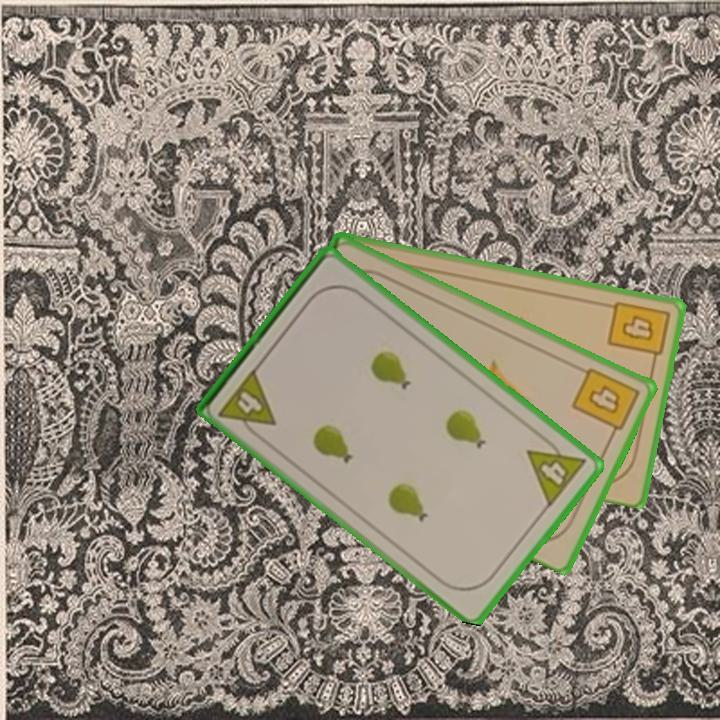4b: (568, 363, 643, 442), (604, 297, 672, 368)
4p: (523, 430, 589, 511), (215, 364, 279, 443)
